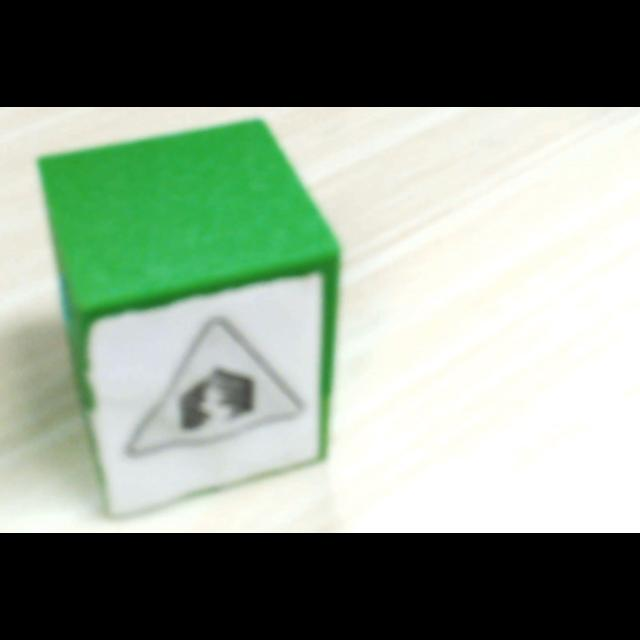Earthquake: (127, 318, 304, 455)
